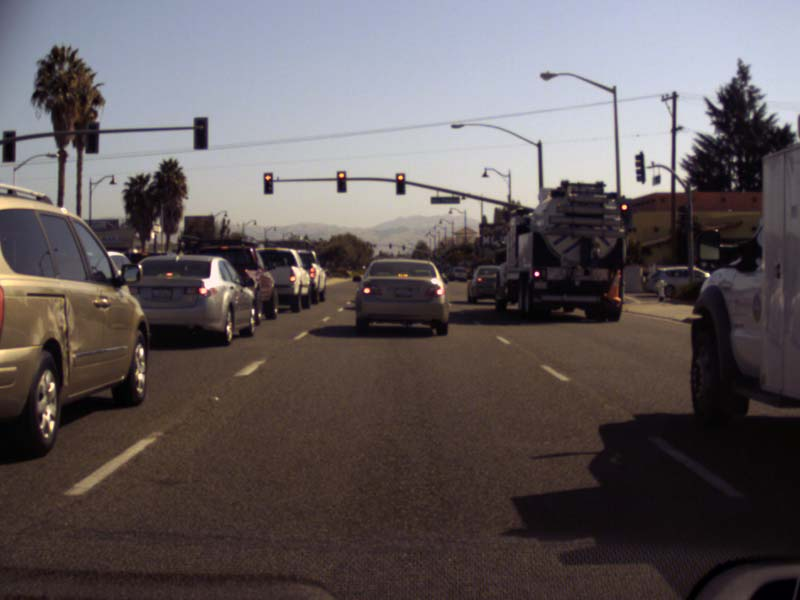Red: (618, 201, 630, 226), (336, 169, 346, 193), (263, 171, 273, 194), (395, 173, 405, 195)
